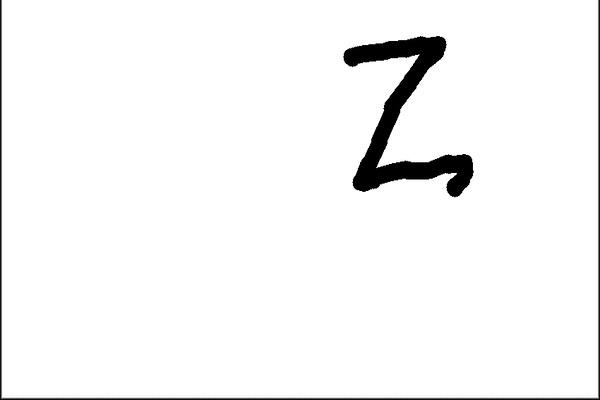Z: (336, 30, 481, 204)
